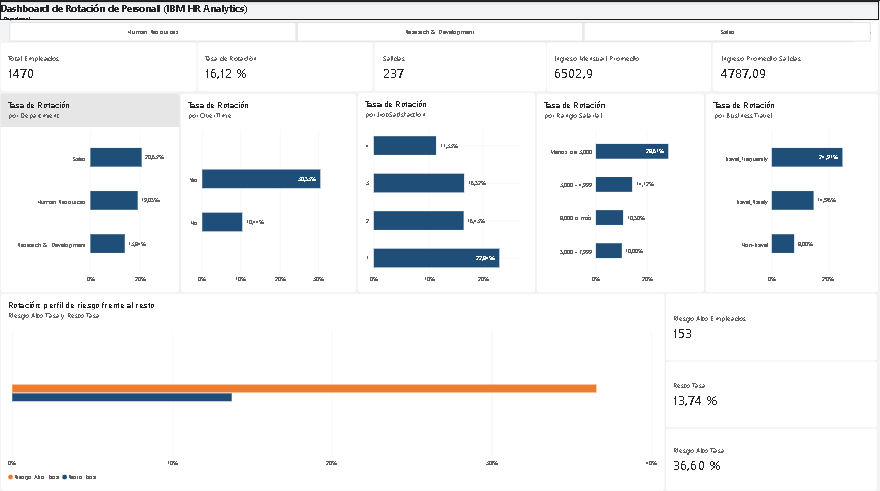

This screenshot's page, from the dashboard's own definition file:
{"tool":"powerbi","page":{"name":"Página 1","canvas":[1920,1080],"ordinal":0},"visuals":[{"type":"cardVisual","fields":{"Data":["Empleados.Total Empleados"]},"box":[0,90,430,110],"z":0},{"type":"cardVisual","fields":{"Data":["Empleados.Tasa de Rotación"]},"box":[430,90,386.7,110],"z":1000},{"type":"cardVisual","fields":{"Data":["Empleados.Salidas"]},"box":[816.7,90,376.7,110],"z":2000},{"type":"cardVisual","fields":{"Data":["Empleados.Ingreso Mensual Promedio"]},"box":[1193.3,90,363,110],"z":3000},{"type":"clusteredBarChart","fields":{"Category":["Empleados.Department"],"Y":["Empleados.Tasa de Rotación"]},"box":[0,202.8,392.3,440.8],"z":4000},{"type":"cardVisual","fields":{"Data":["Empleados.Ingreso Promedio Salidas"]},"box":[1556.7,90,363,110],"z":5000},{"type":"clusteredBarChart","fields":{"Category":["Empleados.OverTime"],"Y":["Empleados.Tasa de Rotación"]},"box":[392.3,202.8,387.9,440.8],"z":6000},{"type":"clusteredBarChart","fields":{"Category":["Empleados.JobSatisfaction"],"Y":["Empleados.Tasa de Rotación"]},"box":[780.2,200.6,390.1,443],"z":7000},{"type":"clusteredBarChart","fields":{"Category":["Empleados.BusinessTravel"],"Y":["Empleados.Tasa de Rotación"]},"box":[1540.7,202.8,379.1,440.8],"z":8000},{"type":"clusteredBarChart","fields":{"Category":["Empleados.Rango Salarial"],"Y":["Empleados.Tasa de Rotación"]},"box":[1170.4,202.8,370.3,440.8],"z":9000},{"type":"textbox","box":[0,0,1920,40.8],"z":9001},{"type":"slicer","fields":{"Values":["Empleados.Department"]},"box":[0,30,1920,60],"z":9002},{"type":"cardVisual","fields":{"Data":["Empleados.Riesgo Alto Empleados"]},"box":[1452.5,643.6,464,150],"z":9003},{"type":"cardVisual","fields":{"Data":["Empleados.Riesgo Alto Tasa"]},"box":[1452,941,464,139],"z":9004},{"type":"cardVisual","fields":{"Data":["Empleados.Resto Tasa"]},"box":[1452,794,464,147],"z":9005},{"type":"clusteredBarChart","title":"Rotación: perfil de riesgo frente al resto","fields":{"Y":["Empleados.Riesgo Alto Tasa","Empleados.Resto Tasa"]},"box":[0,643,1453,437],"z":9006}]}

Visuals, with their boxes on the page's 1920x1080 design canvas (x1, y1, x2, y2). These are canvas units, not pixel positions in the 880x491 screenshot, which may show the page scaled, cropped or inside an application window:
cardVisual - Empleados.Total Empleados: crop(0, 90, 430, 200)
cardVisual - Empleados.Tasa de Rotación: crop(430, 90, 817, 200)
cardVisual - Empleados.Salidas: crop(817, 90, 1193, 200)
cardVisual - Empleados.Ingreso Mensual Promedio: crop(1193, 90, 1556, 200)
clusteredBarChart - Empleados.Department x Empleados.Tasa de Rotación: crop(0, 203, 392, 644)
cardVisual - Empleados.Ingreso Promedio Salidas: crop(1557, 90, 1920, 200)
clusteredBarChart - Empleados.OverTime x Empleados.Tasa de Rotación: crop(392, 203, 780, 644)
clusteredBarChart - Empleados.JobSatisfaction x Empleados.Tasa de Rotación: crop(780, 201, 1170, 644)
clusteredBarChart - Empleados.BusinessTravel x Empleados.Tasa de Rotación: crop(1541, 203, 1920, 644)
clusteredBarChart - Empleados.Rango Salarial x Empleados.Tasa de Rotación: crop(1170, 203, 1541, 644)
textbox: crop(0, 0, 1920, 41)
slicer - Empleados.Department: crop(0, 30, 1920, 90)
cardVisual - Empleados.Riesgo Alto Empleados: crop(1452, 644, 1916, 794)
cardVisual - Empleados.Riesgo Alto Tasa: crop(1452, 941, 1916, 1080)
cardVisual - Empleados.Resto Tasa: crop(1452, 794, 1916, 941)
"Rotación: perfil de riesgo frente al resto" clusteredBarChart: crop(0, 643, 1453, 1080)
